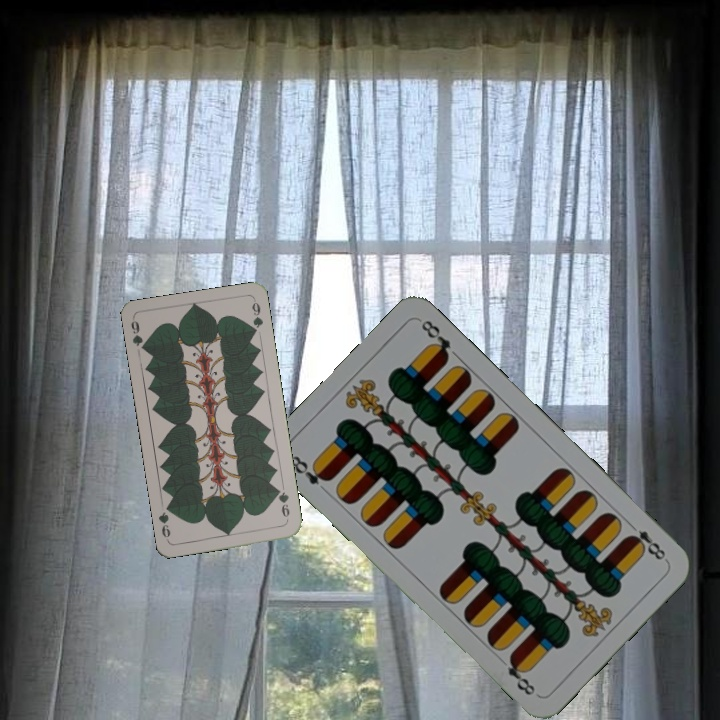E8: (623, 518, 670, 564), (285, 451, 333, 488)
G9: (127, 315, 149, 354), (273, 484, 292, 523)
